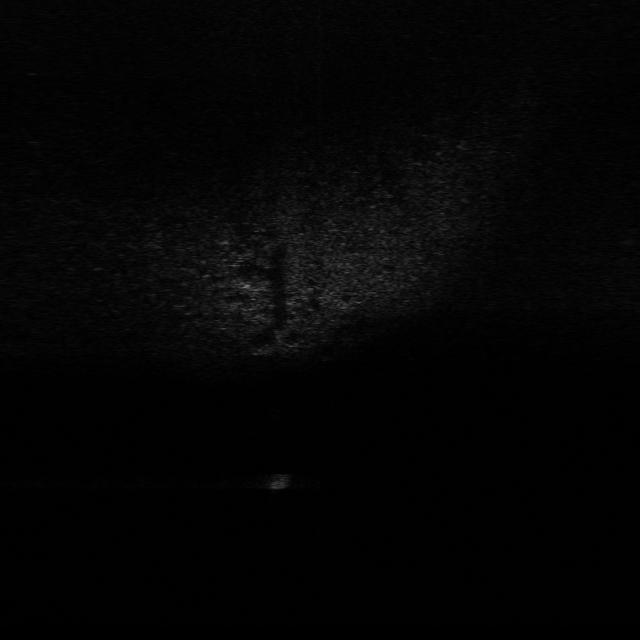cylinder: (267, 471, 294, 490)
